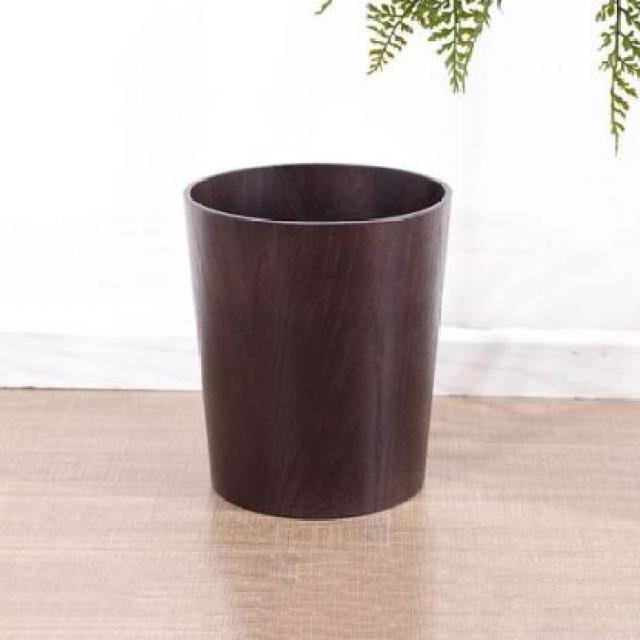dustbin: (180, 160, 455, 524)
